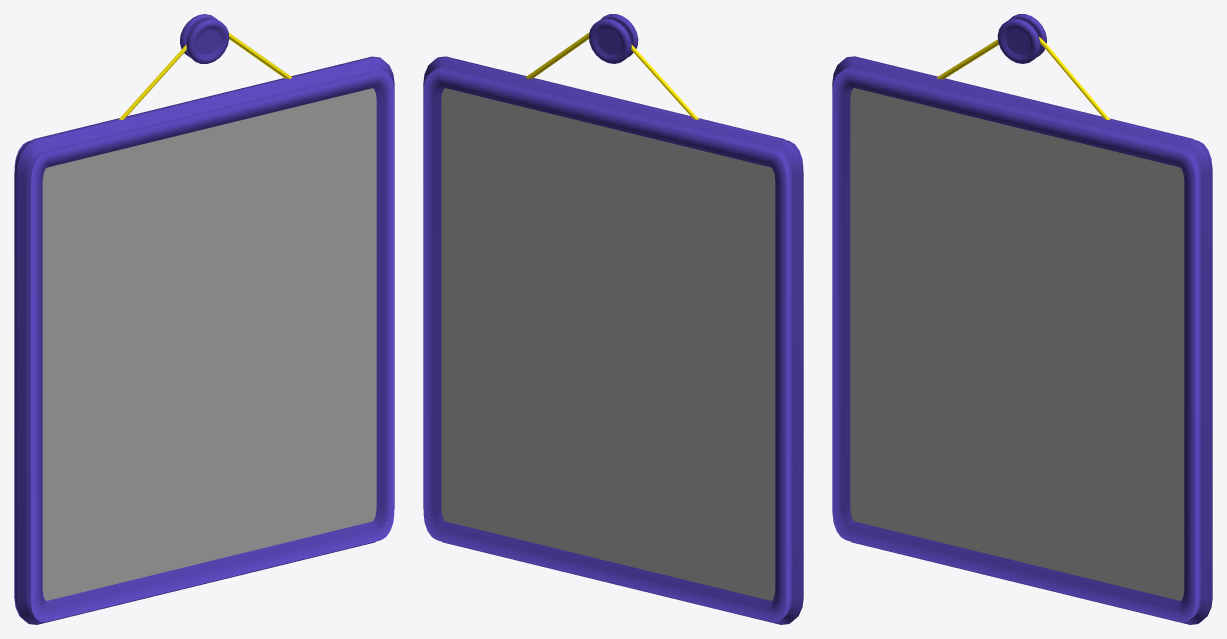
The model's file is Sign.fbx.
The picture shows the model from 3 angles, left to right: view 1: azimuth 30°, elevation 25°; view 2: azimuth 150°, elevation 25°; view 3: azimuth 330°, elevation 25°; orthographic projection.
Visible parts, largest first — view 1: Sign; view 2: Sign; view 3: Sign.
Boxes of the visible parts, x1,y1,x2,y2 form: Sign: (14, 14, 394, 624); Sign: (423, 14, 803, 624); Sign: (832, 14, 1212, 624).
Bounding box in the file's own units: 6.55 × 9.37 × 0.4957.
